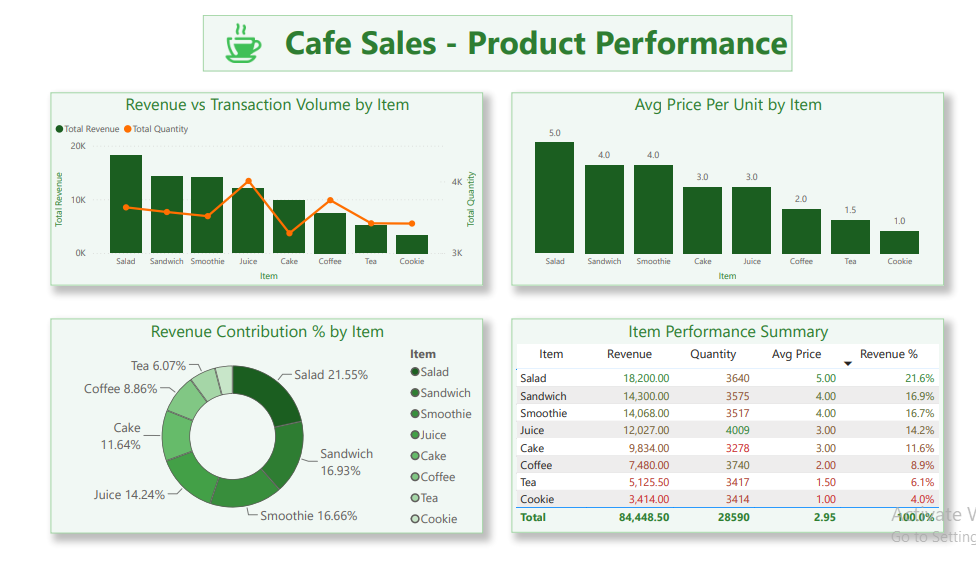

Layout of this report page (visuals, bound fields, positions):
{"tool":"powerbi","page":{"name":"Product Performance","canvas":[1280,720],"ordinal":1},"visuals":[{"type":"lineClusteredColumnComboChart","title":"Revenue vs Transaction Volume by Item","fields":{"Category":["clean_cafe_sales.Item"],"Y":["clean_cafe_sales.Total Revenue"],"Y2":["clean_cafe_sales.Total Quantity"]},"box":[50,102.9,575.7,257.1],"z":0},{"type":"clusteredColumnChart","fields":{"Category":["clean_cafe_sales.Item"],"Y":["clean_cafe_sales.Avg Price Per Unit"]},"box":[664.3,102.9,575.7,257.1],"z":1000},{"type":"donutChart","fields":{"Category":["clean_cafe_sales.Item"],"Y":["clean_cafe_sales.Revenue Contribution %"]},"box":[50,404.3,575.7,285.7],"z":2000},{"type":"tableEx","title":"Item Performance Summary","fields":{"Values":["clean_cafe_sales.Item","clean_cafe_sales.Total Revenue","clean_cafe_sales.Total Quantity","clean_cafe_sales.Avg Price Per Unit","clean_cafe_sales.Revenue Contribution %"]},"box":[664.3,404.3,575.7,284.3],"z":3000},{"type":"textbox","box":[252.5,0,785,75],"z":4001},{"type":"image","box":[252.5,10,107.5,52.5],"z":4501}]}

Visuals, with their boxes on the page's 1280x720 design canvas (x1, y1, x2, y2). These are canvas units, not pixel positions in the 976x566 screenshot, which may show the page scaled, cropped or inside an application window:
"Revenue vs Transaction Volume by Item" lineClusteredColumnComboChart: region(50, 103, 626, 360)
clusteredColumnChart - clean_cafe_sales.Item x clean_cafe_sales.Avg Price Per Unit: region(664, 103, 1240, 360)
donutChart - clean_cafe_sales.Item x clean_cafe_sales.Revenue Contribution %: region(50, 404, 626, 690)
"Item Performance Summary" tableEx: region(664, 404, 1240, 689)
textbox: region(252, 0, 1038, 75)
image: region(252, 10, 360, 62)
